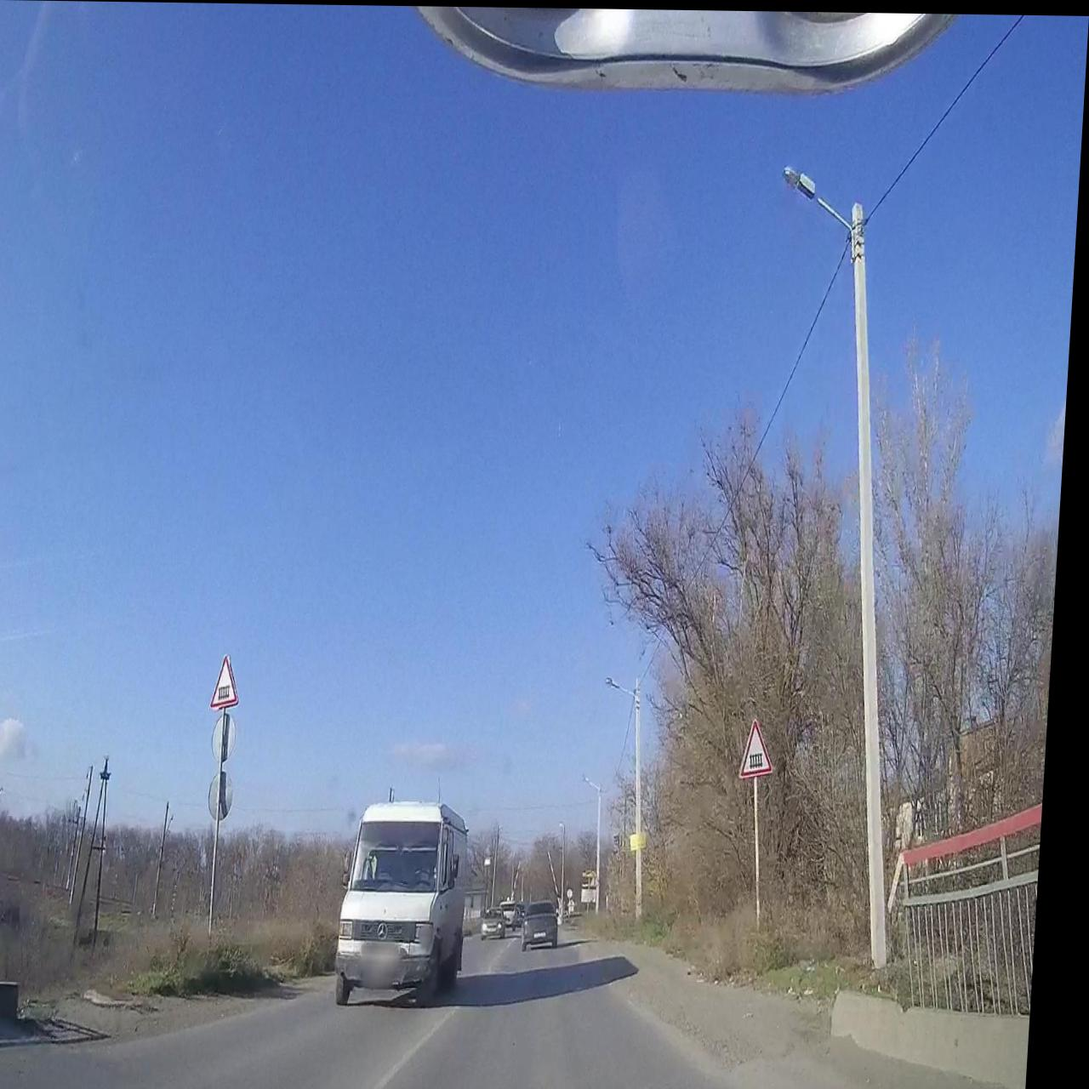car: (340, 785, 488, 1011)
